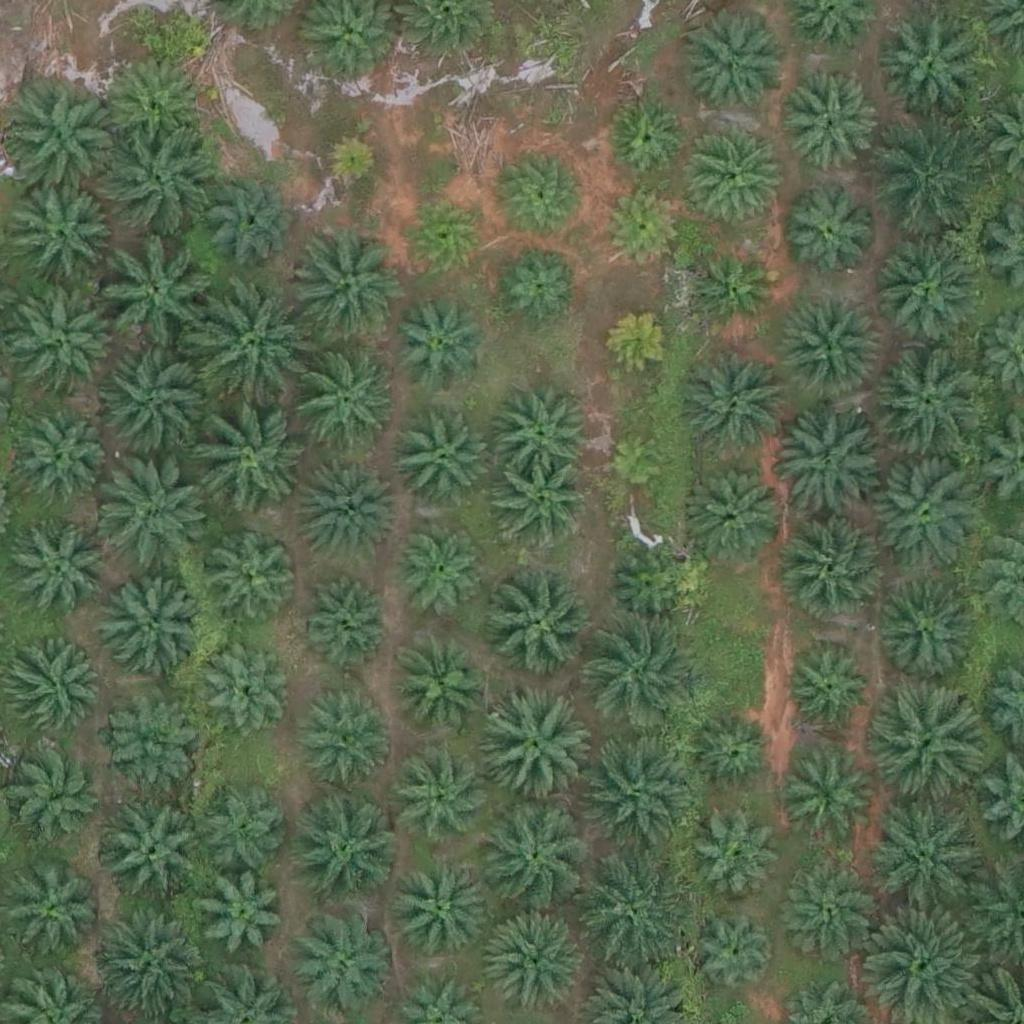Kelapa_Sawit: (871, 460, 984, 574), (678, 344, 791, 458), (585, 737, 698, 851), (482, 565, 595, 679), (874, 342, 987, 455), (871, 679, 984, 792), (776, 410, 889, 523), (475, 693, 588, 806), (97, 345, 210, 458), (872, 6, 985, 119), (873, 129, 986, 242), (194, 292, 307, 405), (100, 241, 213, 354), (5, 84, 118, 197), (96, 462, 208, 576), (870, 800, 982, 913), (588, 616, 700, 729), (576, 856, 688, 969), (478, 800, 590, 913), (190, 401, 302, 514), (291, 228, 403, 341), (106, 124, 218, 237), (8, 274, 120, 387), (877, 580, 977, 681), (777, 297, 877, 398), (790, 520, 890, 621), (691, 461, 791, 562), (491, 381, 591, 482), (385, 294, 485, 395), (392, 410, 492, 511), (392, 634, 492, 735), (394, 751, 494, 852), (390, 862, 490, 963), (298, 350, 398, 451), (295, 683, 395, 784), (294, 802, 394, 903), (291, 911, 391, 1012), (203, 523, 303, 624), (103, 578, 203, 679), (107, 807, 207, 908), (8, 520, 108, 621), (5, 740, 105, 841), (783, 65, 883, 166), (776, 188, 876, 289), (681, 17, 781, 118), (680, 125, 780, 226), (105, 54, 205, 155), (13, 188, 113, 289), (488, 909, 588, 1009), (294, 465, 394, 565), (99, 690, 199, 790), (881, 239, 981, 339), (395, 532, 483, 621), (785, 866, 873, 954), (694, 817, 782, 905), (690, 911, 778, 999), (608, 546, 696, 634), (500, 461, 588, 549), (300, 576, 388, 664), (499, 149, 587, 237), (499, 241, 587, 329), (597, 181, 685, 269), (605, 92, 693, 180), (212, 174, 300, 262), (786, 647, 873, 736), (790, 762, 877, 850), (689, 714, 776, 802), (201, 644, 288, 732), (201, 785, 288, 873), (198, 873, 285, 961), (20, 415, 107, 503), (9, 868, 96, 956), (400, 191, 487, 279), (690, 241, 777, 329), (602, 303, 677, 379), (317, 132, 380, 195), (607, 432, 669, 495)
